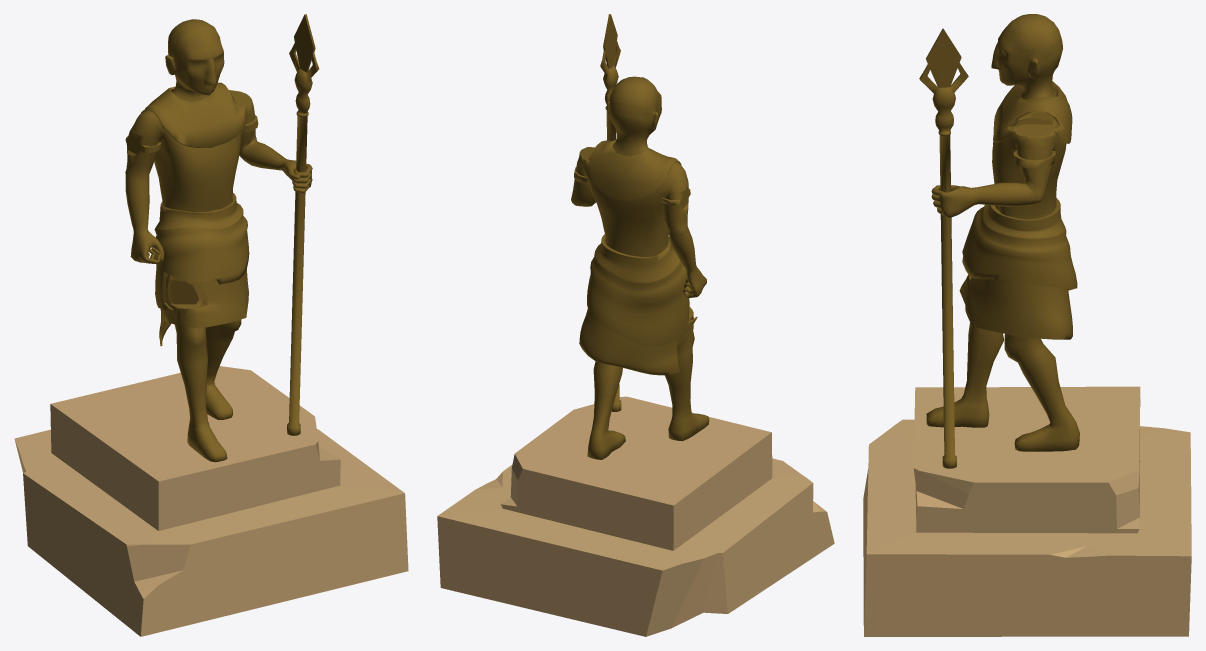
Rendered from RuinsStatue_03.fbx.
3 views of the same model, side by side, from view 1: azimuth 30°, elevation 25°; view 2: azimuth 150°, elevation 25°; view 3: azimuth 270°, elevation 25° (orthographic). The views are drawn at different scales.
Visible parts, largest first — view 1: Cube, Statue.002; view 2: Cube, Statue.002; view 3: Cube, Statue.002.
Boxes of the visible parts, x1=… form: Cube: x1=14, y1=366, x2=408, y2=636; Statue.002: x1=125, y1=14, x2=319, y2=462; Cube: x1=437, y1=396, x2=834, y2=636; Statue.002: x1=571, y1=14, x2=709, y2=459; Cube: x1=863, y1=386, x2=1191, y2=636; Statue.002: x1=919, y1=14, x2=1079, y2=468.
Size of the model in its own units: 243 by 470 by 243.
